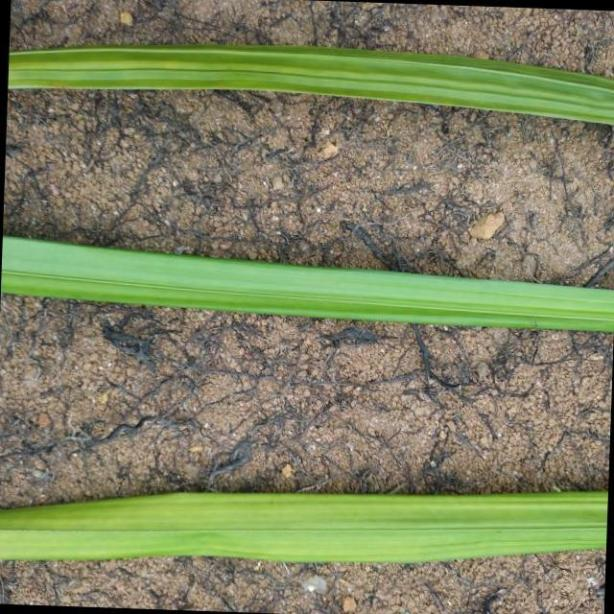nitrogen: (0, 222, 614, 330), (7, 34, 614, 125), (0, 482, 614, 562)
